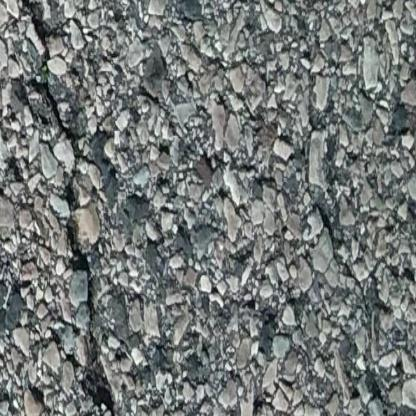Cracks: (13, 0, 139, 416)
